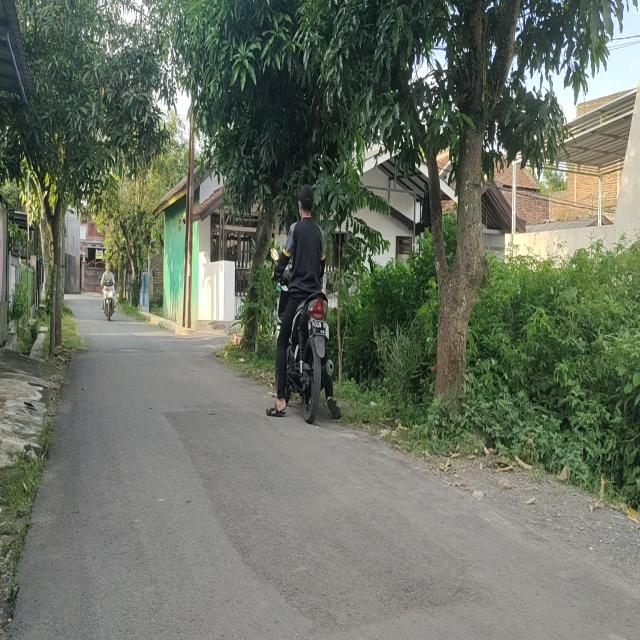no-helmet: (298, 183, 314, 219)
